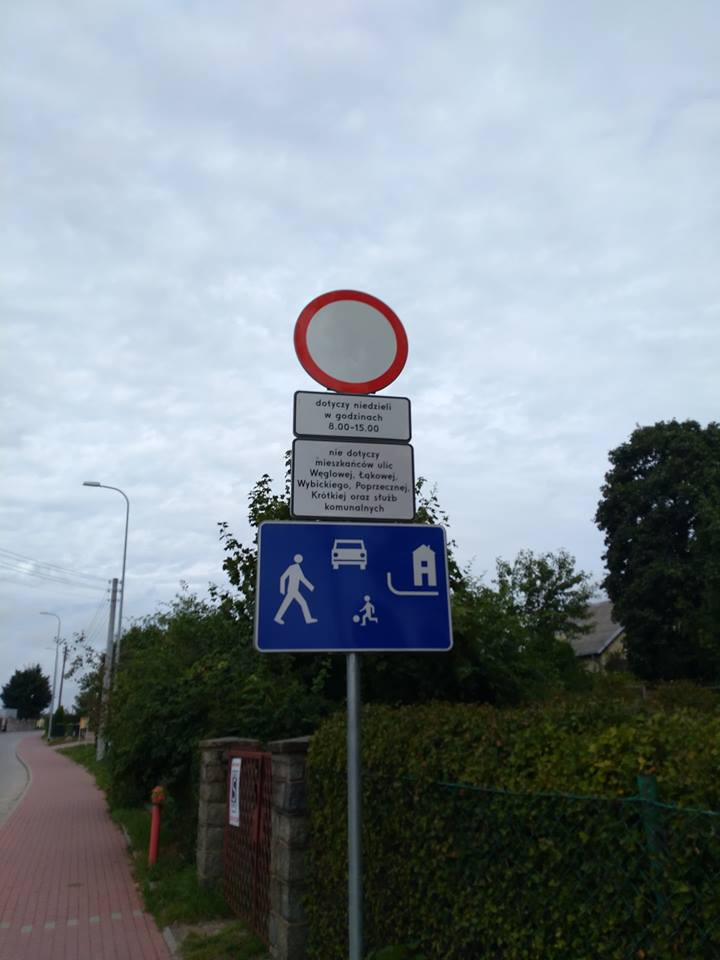no_entry_sign: (291, 289, 411, 393)
